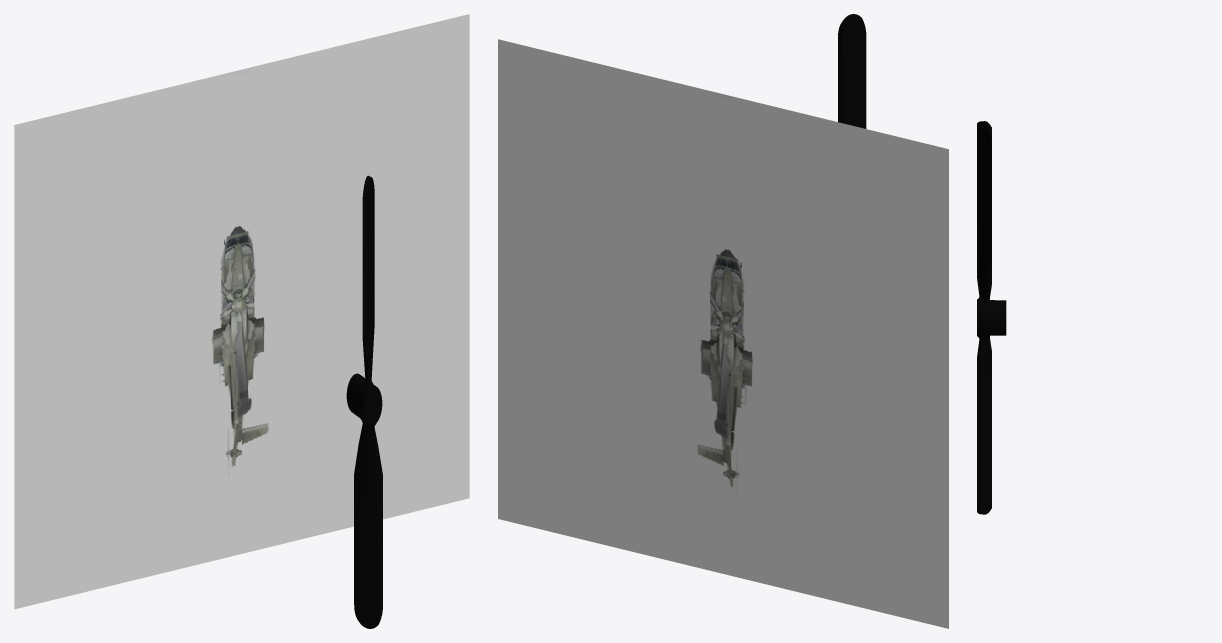
The model's file is helciopter.glb.
The picture shows the model from 3 angles, left to right: view 1: azimuth 30°, elevation 25°; view 2: azimuth 150°, elevation 25°; view 3: azimuth 270°, elevation 25°; orthographic projection. The views are drawn at different scales.
Parts seen in each view (by area): view 1: mesh_id1, node_id44; view 2: mesh_id1, node_id44; view 3: node_id44.
Part boxes in pixels (bbox=[...]): mesh_id1: bbox=[14, 14, 469, 609]; node_id44: bbox=[346, 175, 382, 628]; mesh_id1: bbox=[498, 39, 948, 628]; node_id44: bbox=[838, 14, 866, 128]; node_id44: bbox=[977, 121, 1006, 514].
Size of the model in its own units: 0.537 by 0.546 by 0.2708.
2 materials, 2 textured.
